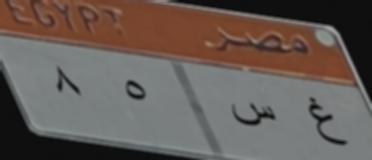5: (116, 68, 150, 115)
8: (40, 61, 90, 106)
ghayn: (302, 91, 346, 153)
seen: (225, 98, 284, 134)
